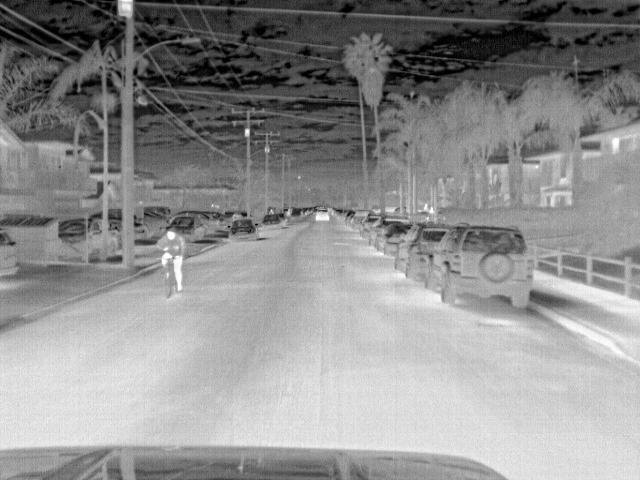car: (428, 223, 535, 312), (405, 227, 445, 282), (394, 224, 429, 270), (57, 218, 87, 260), (165, 216, 208, 244), (171, 211, 218, 235), (0, 227, 22, 278), (133, 209, 167, 239), (225, 219, 258, 242), (386, 224, 410, 255), (377, 220, 399, 252), (258, 214, 286, 232), (352, 208, 372, 229), (361, 216, 380, 236), (285, 208, 303, 221), (315, 208, 332, 221)
person: (157, 227, 184, 290)
